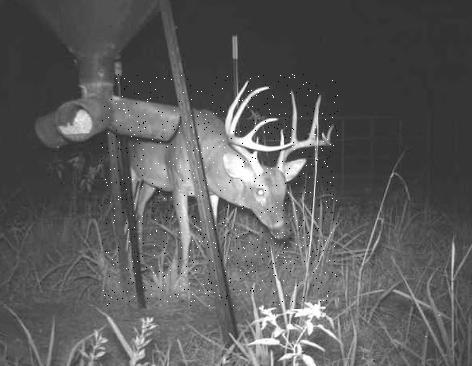Deer: (101, 74, 338, 306)
